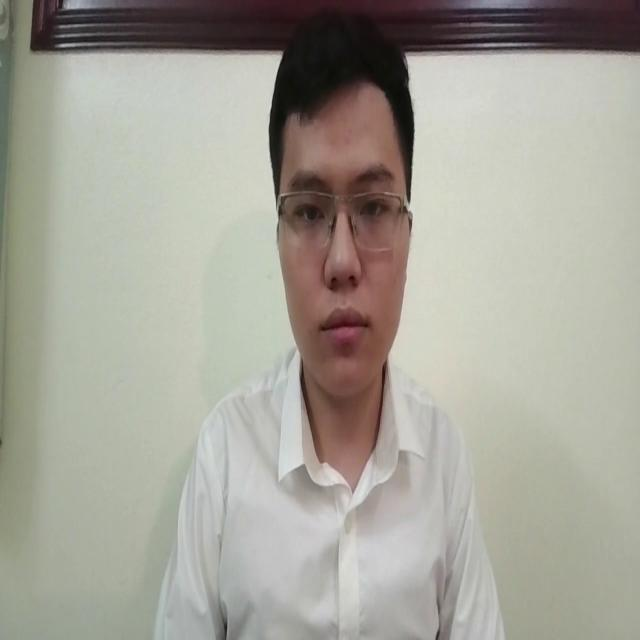student: (144, 10, 508, 640)
